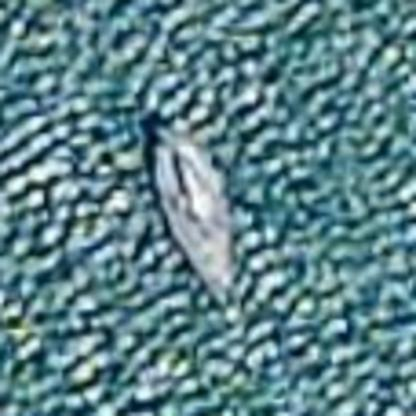ship: (134, 108, 252, 323)
